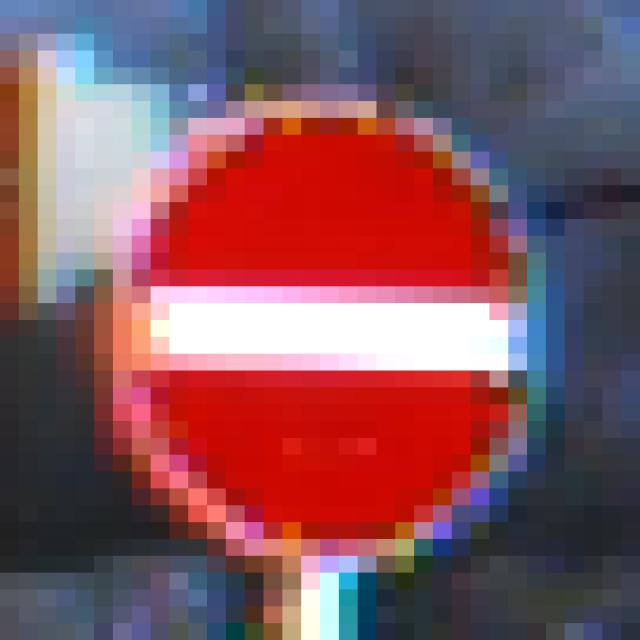No Entry: (114, 85, 547, 557)
